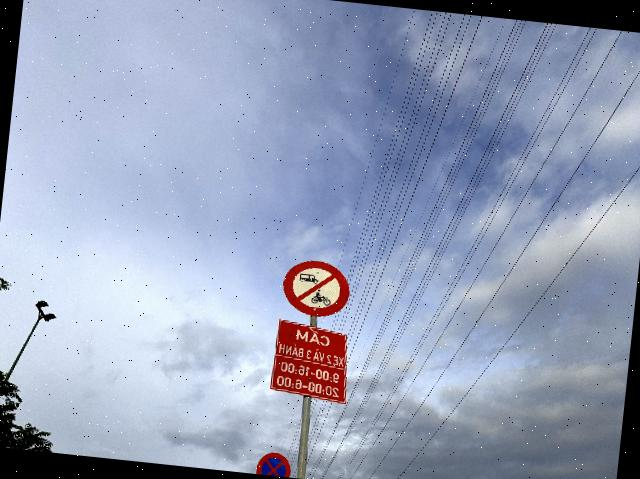cam-xe-2-banh-3-banh: (280, 257, 352, 320)
